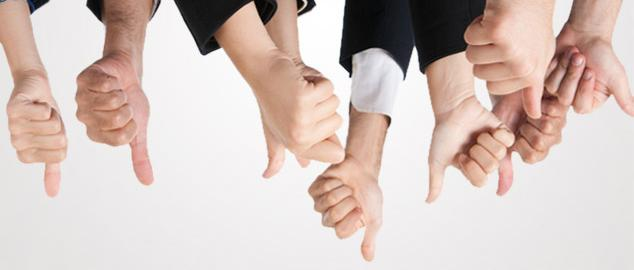thumbsdown: (72, 59, 155, 186), (424, 107, 516, 206), (461, 14, 545, 121), (306, 164, 385, 263), (6, 83, 70, 198), (494, 96, 561, 201)
